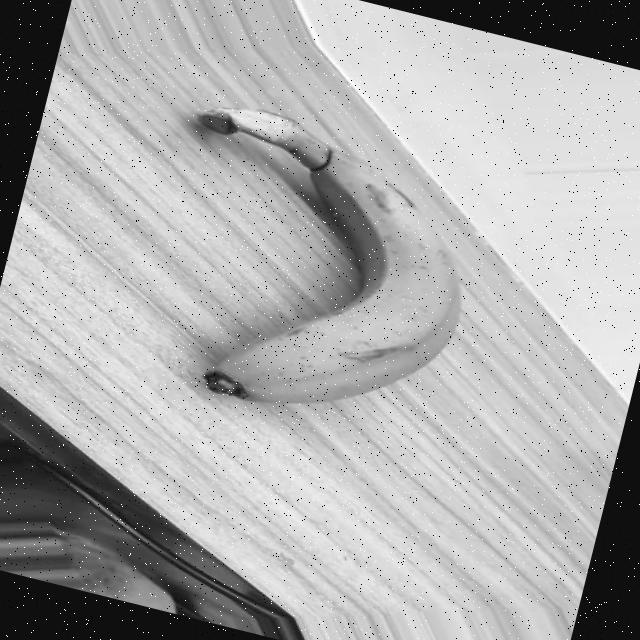Unripe: (134, 93, 498, 448)
